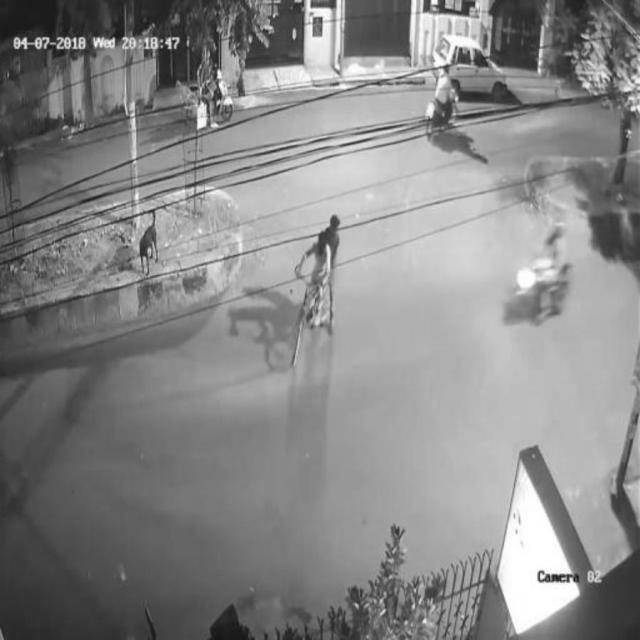vehicle: (292, 210, 343, 370), (436, 32, 508, 96), (188, 45, 235, 129), (422, 60, 462, 137)
